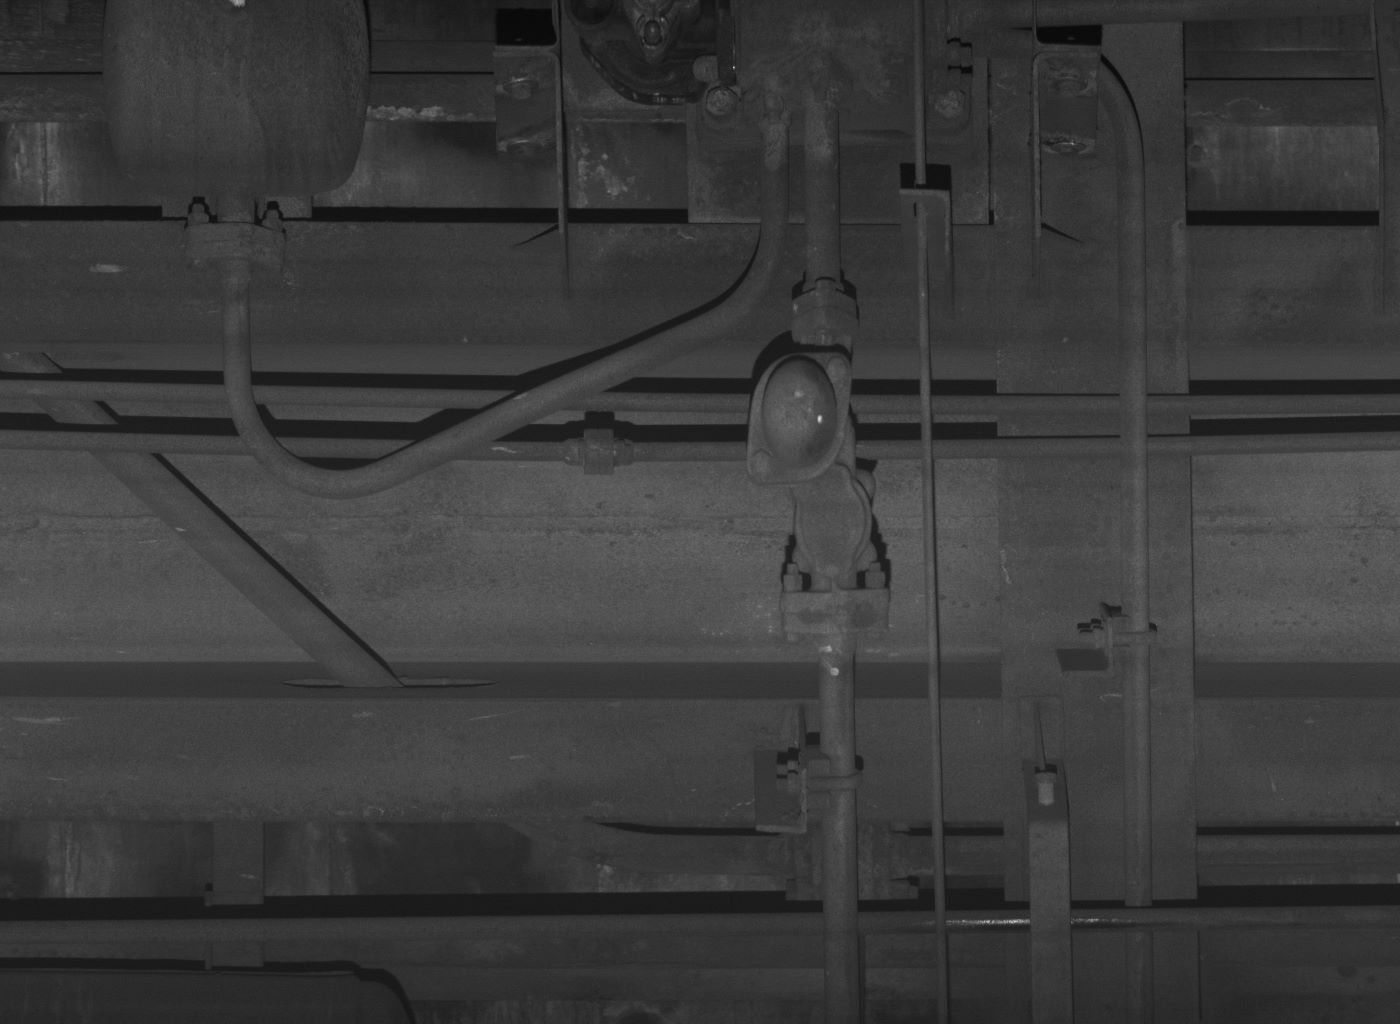normal: (1021, 698, 1075, 1024), (791, 464, 882, 576)
